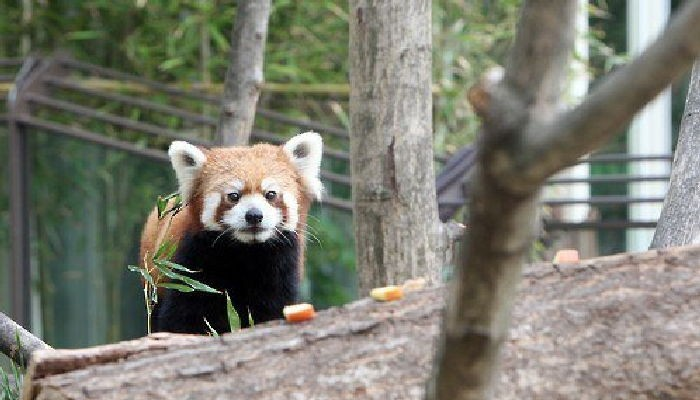redPanda: (107, 115, 335, 353)
